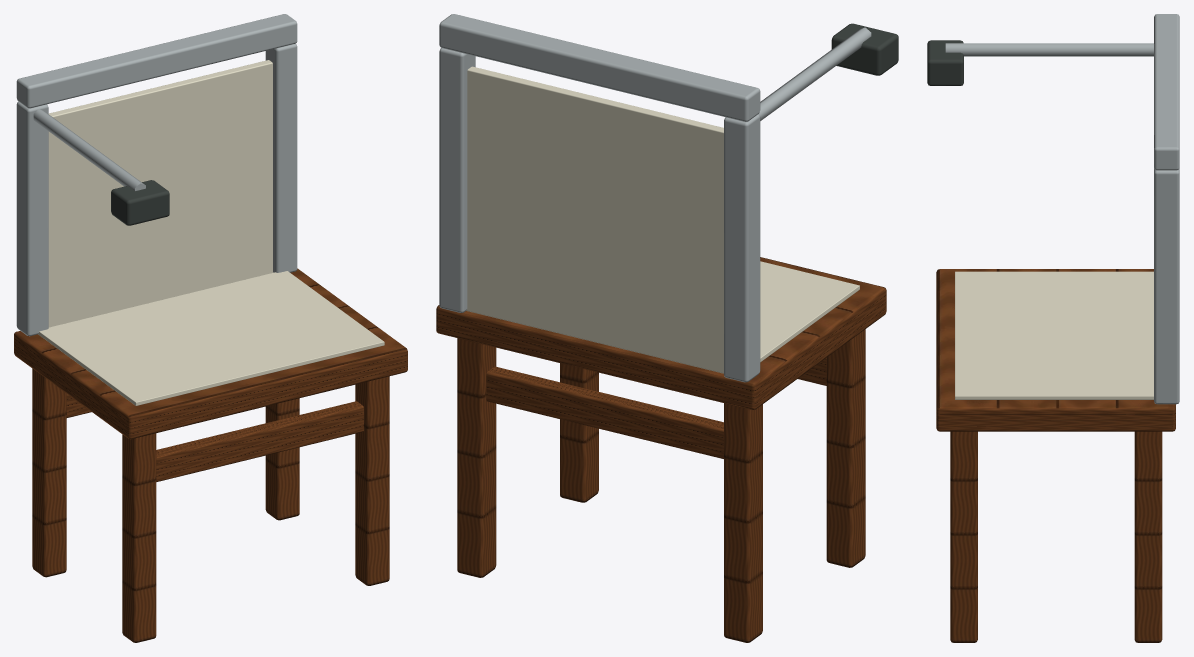
File: prehistoric-expedition-sites-sample-photography-stand-d1fcb650__26122.glb
The picture shows the model from 3 angles, left to right: view 1: azimuth 30°, elevation 25°; view 2: azimuth 150°, elevation 25°; view 3: azimuth 270°, elevation 25°; orthographic projection. The views are drawn at different scales.
Visible parts, largest first — view 1: sample-photography-stand; view 2: sample-photography-stand; view 3: sample-photography-stand.
Part boxes in pixels (x1=…): sample-photography-stand: x1=14, y1=14, x2=407, y2=642; sample-photography-stand: x1=436, y1=14, x2=898, y2=642; sample-photography-stand: x1=927, y1=14, x2=1179, y2=642.
Size of the model in its own units: 0.92 by 1.5 by 0.685.
Materials: 4 (1 with a texture image).
